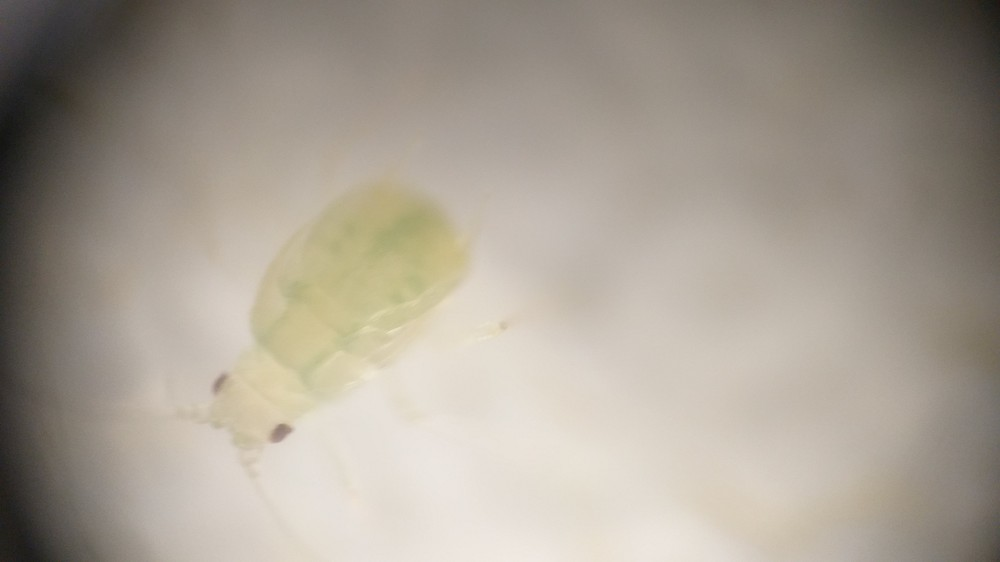Pulgon: (67, 150, 527, 539)
